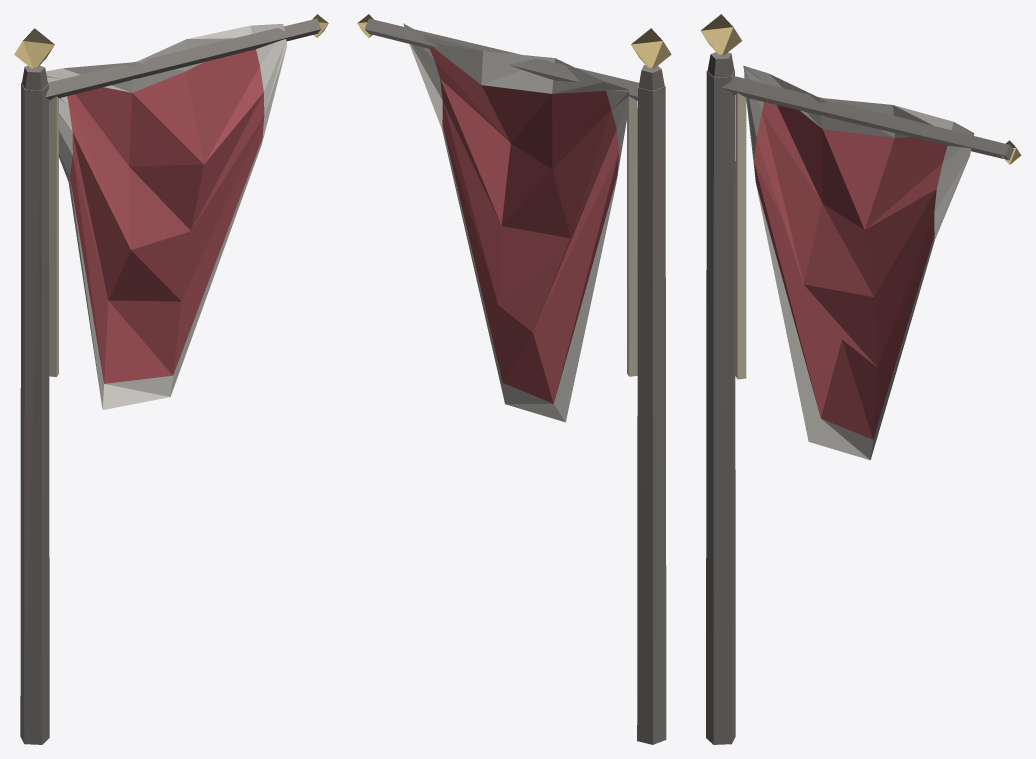
Rendered from flag.pennant.lingqi__pole.stick.fangun__armHang.glb.
The picture shows the model from 3 angles, left to right: view 1: azimuth 30°, elevation 25°; view 2: azimuth 150°, elevation 25°; view 3: azimuth 330°, elevation 25°; orthographic projection. The views are drawn at different scales.
Parts seen in each view (by area): view 1: flag.pennant.lingqi; view 2: flag.pennant.lingqi; view 3: flag.pennant.lingqi.
Boxes of the visible parts, x1,y1,x2,y2 form: flag.pennant.lingqi: [14, 14, 328, 744]; flag.pennant.lingqi: [357, 14, 671, 744]; flag.pennant.lingqi: [700, 14, 1021, 744].
Bounding box in the file's own units: 1.06 × 2.28 × 0.2144.
